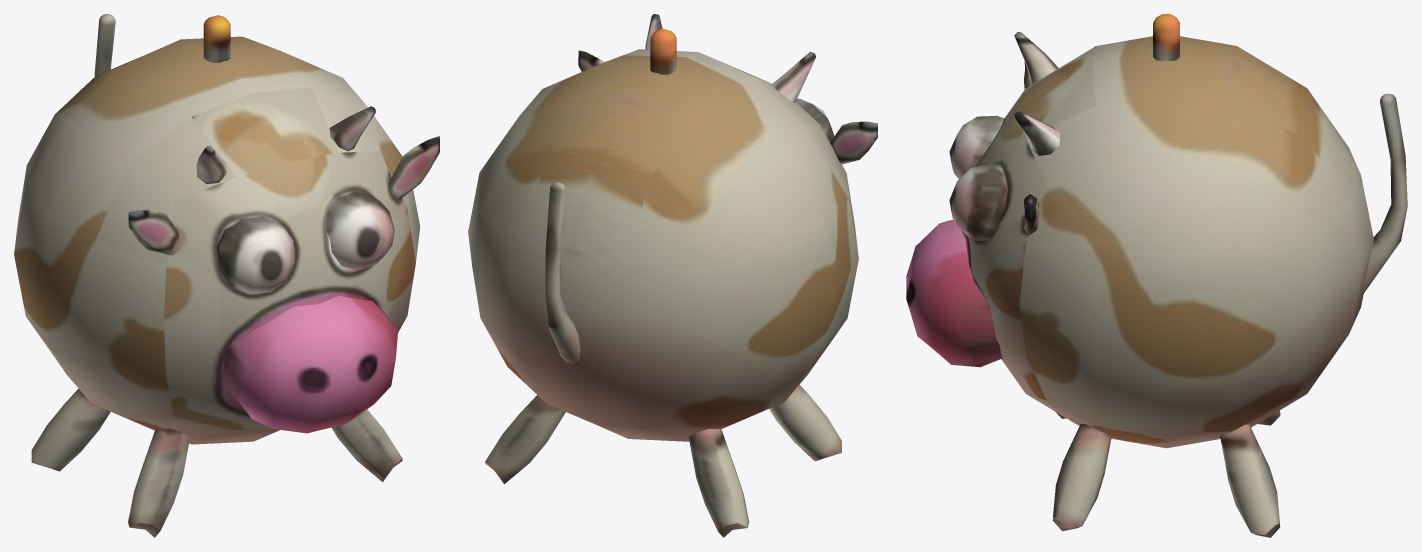
File: cowbomb.fbx
The picture shows the model from 3 angles, left to right: view 1: azimuth 30°, elevation 25°; view 2: azimuth 150°, elevation 25°; view 3: azimuth 270°, elevation 25°; orthographic projection. The views are drawn at different scales.
Visible parts, largest first — view 1: Roundcube, Roundcube.001, Roundcube.003, Roundcube.002, Roundcube.006, Roundcube.005, Roundcube.007, Roundcube.004; view 2: Roundcube, Roundcube.003, Roundcube.004, Roundcube.006, Roundcube.005, Roundcube.007, Roundcube.002; view 3: Roundcube, Roundcube.001, Roundcube.003, Roundcube.002, Roundcube.004, Roundcube.005, Roundcube.007, Roundcube.006.
Part boxes in pixels (x1=…): Roundcube: x1=14, y1=36, x2=420, y2=444; Roundcube.001: x1=221, y1=295, x2=397, y2=433; Roundcube.003: x1=31, y1=388, x2=402, y2=537; Roundcube.002: x1=216, y1=191, x2=394, y2=294; Roundcube.006: x1=128, y1=136, x2=439, y2=255; Roundcube.005: x1=196, y1=106, x2=375, y2=183; Roundcube.007: x1=203, y1=15, x2=230, y2=62; Roundcube.004: x1=94, y1=14, x2=115, y2=76; Roundcube: x1=468, y1=49, x2=858, y2=441; Roundcube.003: x1=485, y1=384, x2=841, y2=537; Roundcube.004: x1=544, y1=182, x2=580, y2=363; Roundcube.006: x1=578, y1=50, x2=877, y2=164; Roundcube.005: x1=645, y1=14, x2=815, y2=102; Roundcube.007: x1=650, y1=28, x2=676, y2=74; Roundcube.002: x1=795, y1=98, x2=834, y2=142; Roundcube: x1=961, y1=36, x2=1373, y2=448; Roundcube.001: x1=906, y1=220, x2=1001, y2=367; Roundcube.003: x1=1052, y1=410, x2=1280, y2=537; Roundcube.002: x1=949, y1=115, x2=1007, y2=241; Roundcube.004: x1=1363, y1=93, x2=1407, y2=293; Roundcube.005: x1=1014, y1=32, x2=1060, y2=155; Roundcube.007: x1=1153, y1=14, x2=1179, y2=61; Roundcube.006: x1=1024, y1=61, x2=1038, y2=234.
Size of the model in its own units: 138 by 170 by 166.
